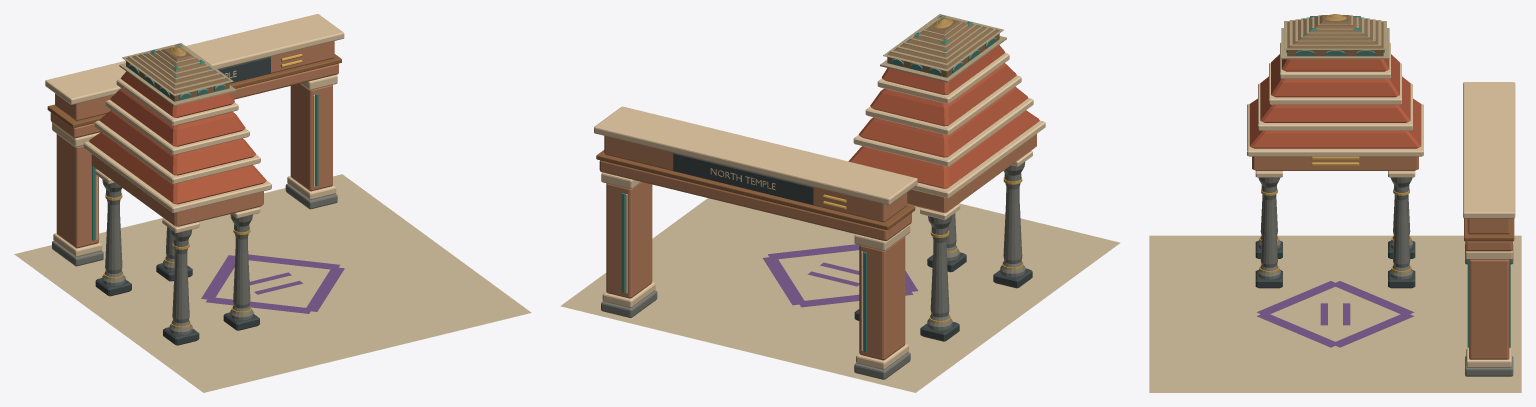
Rendered from room-pyramid_n.glb.
3 renders of one model, left to right at view 1: azimuth 30°, elevation 25°; view 2: azimuth 150°, elevation 25°; view 3: azimuth 270°, elevation 25°, orthographic. The views are drawn at different scales.
Parts seen in each view (by area): view 1: Surveyed floor · room-pyramid_n, North Pyramid · twin-bar keeper tower · terracotta, Shelter drip mould.003, North Pyramid · twin-bar keeper tower · limestone, North Pyramid · twin-bar keeper tower · granite, North Pyramid · copper ridge crown, Fold post.006, Fold post.007, North Pyramid · twin-bar keeper tower · sandstone, Fold sign fascia.003, Open passage transom.003, North Pyramid · twin-bar keeper tower · basalt (+7 smaller); view 2: Surveyed floor · room-pyramid_n, North Pyramid · twin-bar keeper tower · terracotta, Shelter drip mould.003, North Pyramid · twin-bar keeper tower · limestone, North Pyramid · copper ridge crown, Fold post.006, Fold post.007, North Pyramid · twin-bar keeper tower · granite, Open passage transom.003, Fold sign fascia.003, Destination tablet.006, Bronze lintel return.003 (+8 smaller); view 3: Surveyed floor · room-pyramid_n, North Pyramid · twin-bar keeper tower · terracotta, Shelter drip mould.003, North Pyramid · twin-bar keeper tower · limestone, North Pyramid · copper ridge crown, Fold post.006, North Pyramid · twin-bar keeper tower · granite, North Pyramid · twin-bar keeper tower · sandstone, North Pyramid · twin-bar keeper tower · basalt, Fold sign fascia.003, North Pyramid · twin-bar keeper tower · brass, Bronze lintel return.003 (+4 smaller).
Part boxes in pixels (x1,y1,x2,y2): Surveyed floor · room-pyramid_n: [14, 174, 531, 392]; North Pyramid · twin-bar keeper tower · terracotta: [89, 71, 266, 204]; Shelter drip mould.003: [45, 14, 344, 104]; North Pyramid · twin-bar keeper tower · limestone: [83, 79, 271, 232]; North Pyramid · twin-bar keeper tower · granite: [102, 179, 253, 335]; North Pyramid · copper ridge crown: [119, 43, 236, 106]; Fold post.006: [290, 83, 332, 191]; Fold post.007: [56, 134, 98, 248]; North Pyramid · twin-bar keeper tower · sandstone: [91, 154, 263, 226]; Fold sign fascia.003: [55, 41, 334, 120]; Open passage transom.003: [50, 63, 338, 138]; North Pyramid · twin-bar keeper tower · basalt: [95, 263, 259, 345]; Surveyed floor · room-pyramid_n: [560, 198, 1120, 392]; North Pyramid · twin-bar keeper tower · terracotta: [848, 45, 1039, 188]; Shelter drip mould.003: [594, 106, 917, 204]; North Pyramid · twin-bar keeper tower · limestone: [853, 53, 1045, 219]; North Pyramid · copper ridge crown: [880, 14, 1006, 82]; Fold post.006: [606, 182, 652, 298]; Fold post.007: [859, 236, 905, 360]; North Pyramid · twin-bar keeper tower · granite: [927, 162, 1025, 330]; Open passage transom.003: [599, 160, 911, 241]; Fold sign fascia.003: [604, 136, 907, 222]; Destination tablet.006: [673, 153, 813, 204]; Bronze lintel return.003: [596, 150, 915, 230]; Surveyed floor · room-pyramid_n: [1149, 235, 1521, 392]; North Pyramid · twin-bar keeper tower · terracotta: [1249, 54, 1421, 148]; Shelter drip mould.003: [1463, 82, 1515, 218]; North Pyramid · twin-bar keeper tower · limestone: [1247, 43, 1423, 177]; North Pyramid · copper ridge crown: [1281, 14, 1389, 59]; Fold post.006: [1469, 259, 1509, 359]; North Pyramid · twin-bar keeper tower · granite: [1257, 177, 1413, 279]; North Pyramid · twin-bar keeper tower · sandstone: [1252, 156, 1418, 170]; North Pyramid · twin-bar keeper tower · basalt: [1255, 241, 1415, 288]; Fold sign fascia.003: [1467, 218, 1510, 234]; North Pyramid · twin-bar keeper tower · brass: [1259, 156, 1411, 273]; Bronze lintel return.003: [1464, 218, 1514, 241].
Bounding box in the file's own units: 8 × 6.03 × 8.
Materials: 14 (2 with a texture image).
